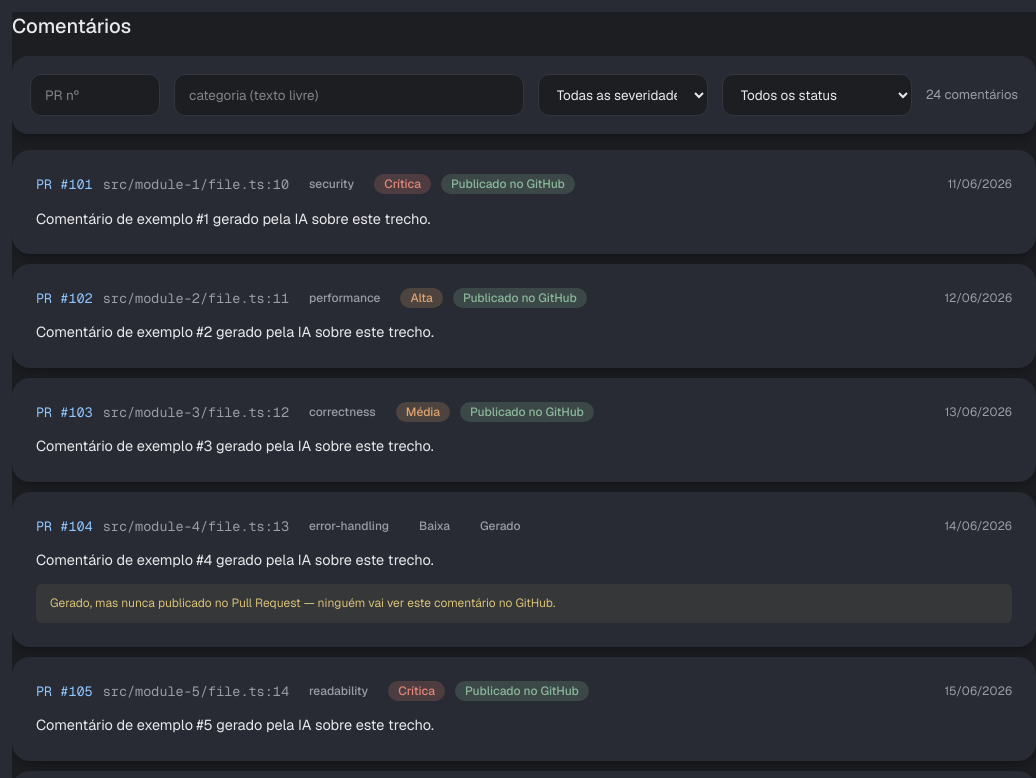
Test: CommentsPage › filters by severity via the closed dropdown
The width and height of the screenshot is (1036, 778).
Expected: the text "24 comentários" is shown, x1=926 y1=85 x2=1018 y2=105
Select "Crítica" in the dropdown named "Filtrar por severidade" at (623, 95), box x1=538 y1=74 x2=708 y2=116
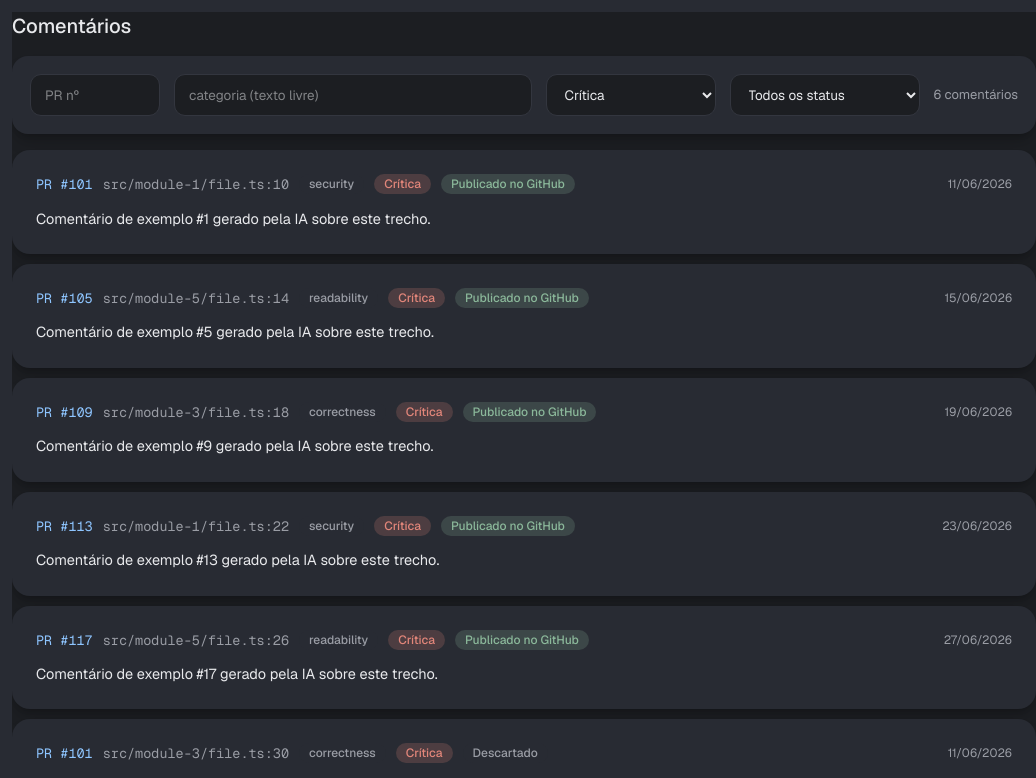
Now the text "6 comentários" is shown, box x1=934 y1=85 x2=1018 y2=105
